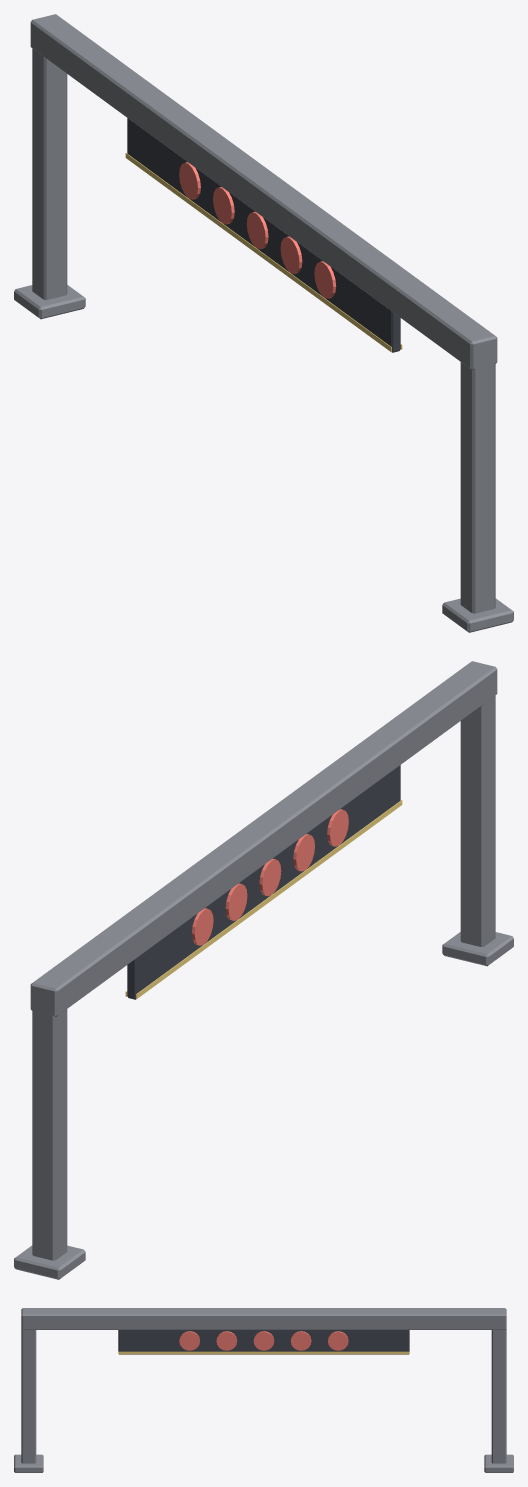
The model's file is gantry.glb.
3 views of the same model, one above another, from view 1: azimuth 30°, elevation 25°; view 2: azimuth 150°, elevation 25°; view 3: azimuth 270°, elevation 25° (orthographic). The views are drawn at different scales.
Visible parts, largest first — view 1: beam, pillar-1, pillar1, banner, stripe-1, foot-1, foot1; view 2: beam, pillar1, pillar-1, banner, stripe-1, foot1, foot-1; view 3: beam, banner, pillar1, pillar-1, stripe1, foot1, foot-1, lamp1_1, lamp1_3, lamp1_0, lamp1_2, lamp1_4.
Boxes of the visible parts, box(x1,y1,x2,y2) form: beam: box(30, 14, 497, 369); pillar-1: box(460, 354, 495, 613); pillar1: box(32, 48, 67, 299); banner: box(127, 118, 400, 352); stripe-1: box(125, 153, 391, 352); foot-1: box(442, 598, 513, 632); foot1: box(14, 285, 85, 319); beam: box(30, 661, 497, 1016); pillar1: box(32, 1001, 67, 1260); pillar-1: box(460, 695, 495, 946); banner: box(127, 765, 400, 999); stripe-1: box(136, 800, 402, 999); foot1: box(14, 1245, 85, 1279); foot-1: box(442, 932, 513, 966); beam: box(21, 1308, 506, 1329); banner: box(118, 1330, 409, 1354); pillar1: box(491, 1329, 506, 1463); pillar-1: box(21, 1329, 36, 1463); stripe1: box(118, 1351, 409, 1354); foot1: box(484, 1454, 513, 1472); foot-1: box(14, 1454, 43, 1472); lamp1_1: box(216, 1331, 237, 1350); lamp1_3: box(290, 1331, 311, 1350); lamp1_0: box(179, 1331, 199, 1350); lamp1_2: box(253, 1331, 274, 1350); lamp1_4: box(328, 1331, 348, 1350).
Size of the model in its own units: 1.2 by 6.95 by 20.2.
